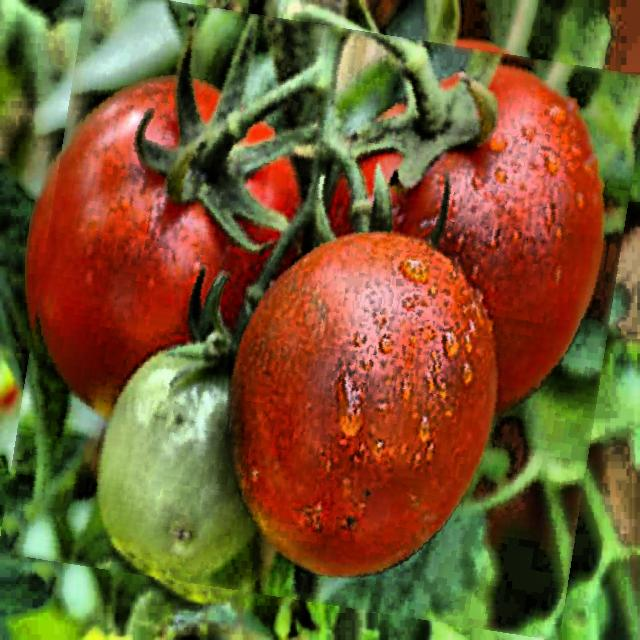tomato: (18, 8, 627, 621)
